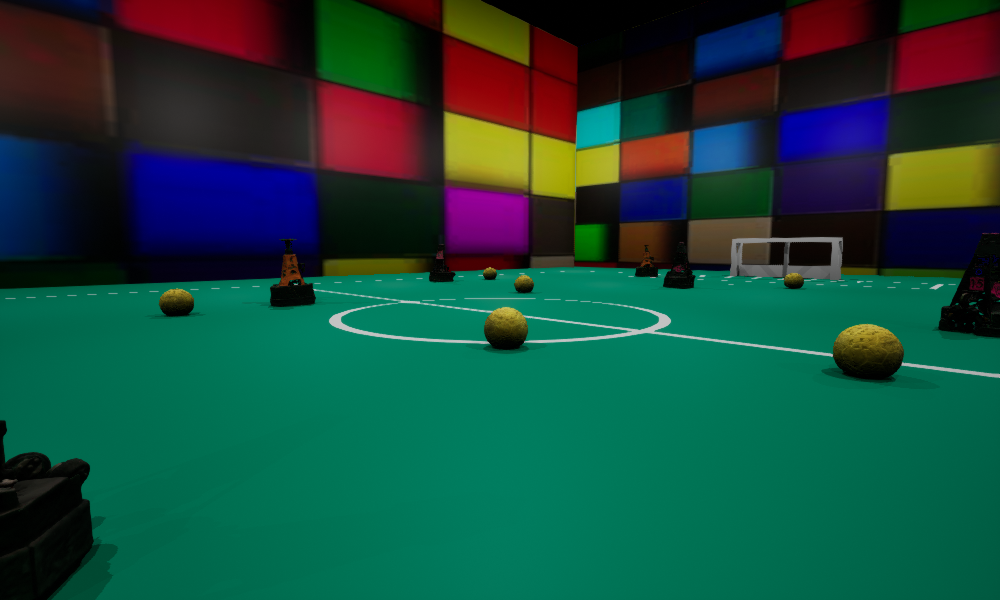b: (833, 324, 903, 378), (484, 307, 527, 348), (159, 288, 193, 315), (514, 275, 533, 292), (784, 273, 803, 288), (483, 267, 496, 278)
o: (270, 239, 315, 306), (635, 245, 657, 276)
p1: (938, 233, 999, 337), (663, 242, 695, 288)
p2: (0, 420, 93, 599), (429, 244, 455, 281)
